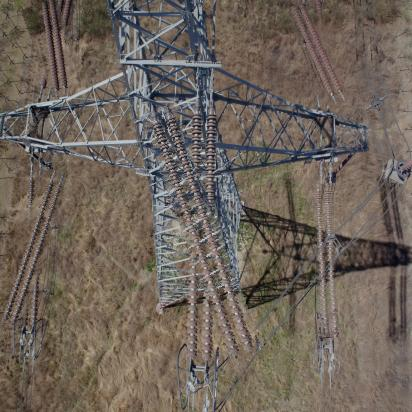insulator: (163, 103, 243, 363), (9, 169, 57, 329), (30, 1, 82, 96), (296, 1, 342, 107), (315, 184, 338, 339)
